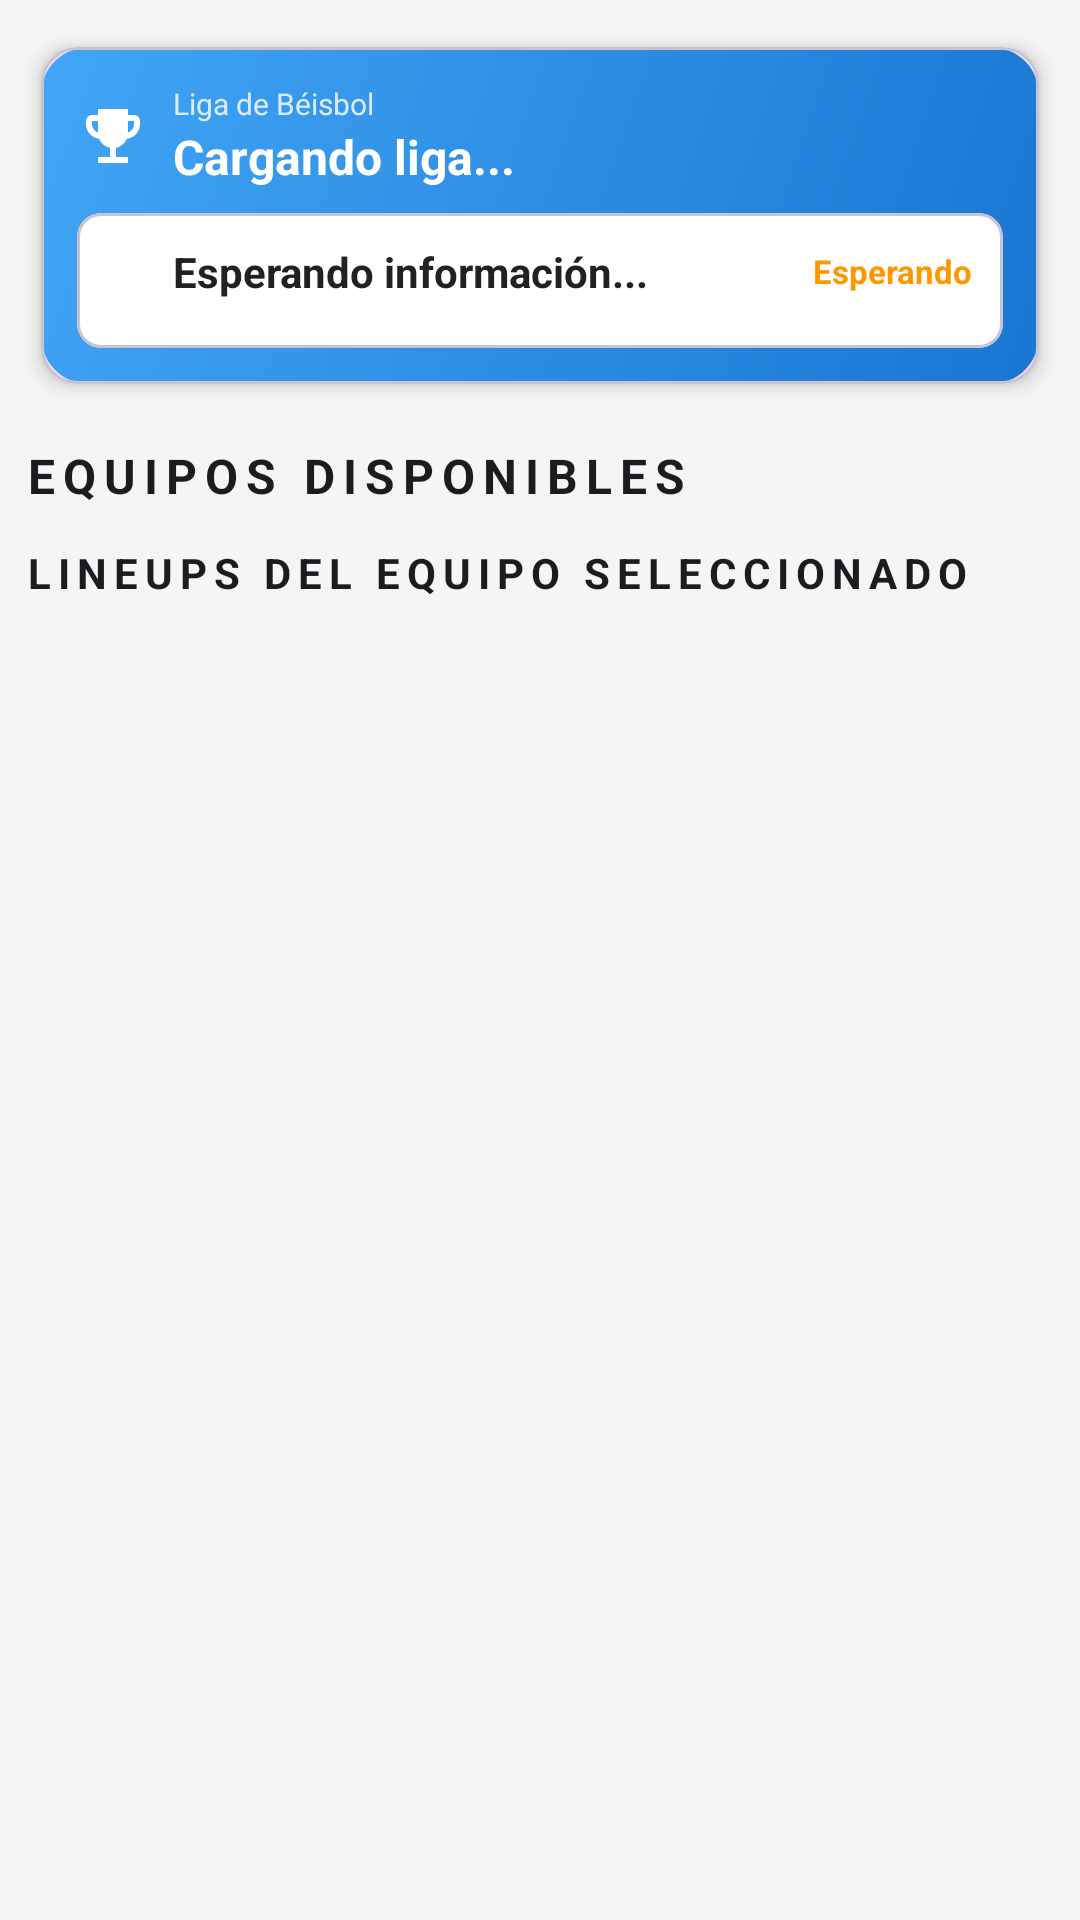

Icon bounding boxes for this 1080 x 1920 phone screenshot, format (x1, y1, x2, y2):
league trophy: (86, 109, 140, 163)
